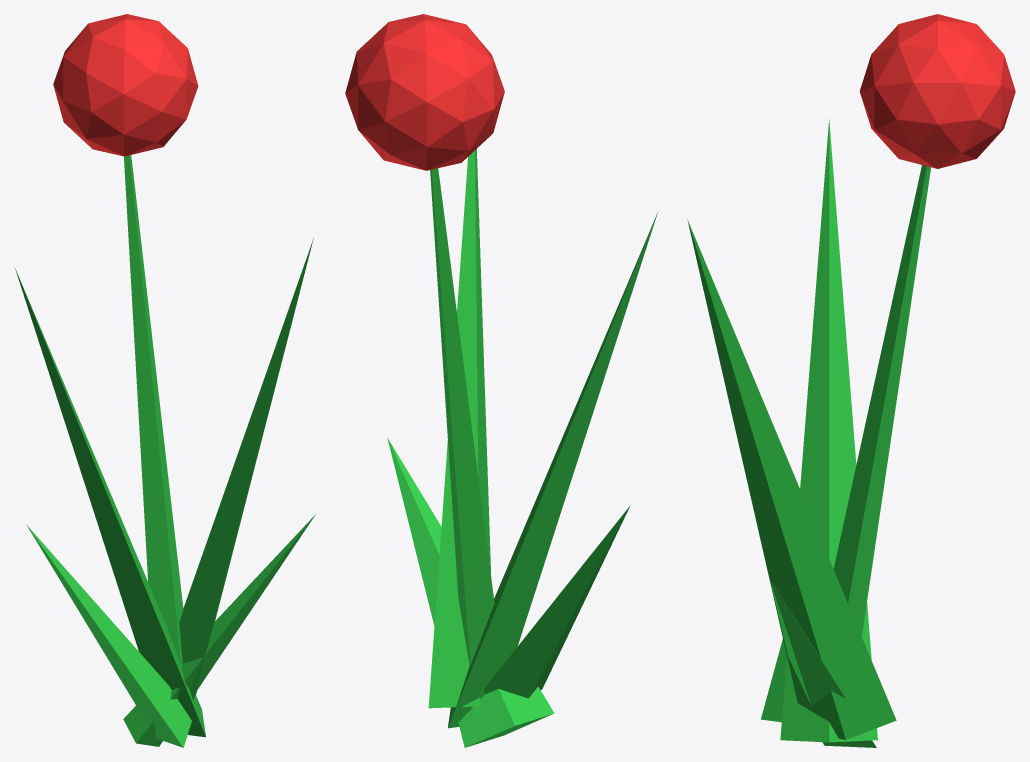
File: FlowerRed1.obj
3 views of the same model, side by side, from view 1: azimuth 30°, elevation 25°; view 2: azimuth 150°, elevation 25°; view 3: azimuth 270°, elevation 25° (orthographic). The views are drawn at different scales.
Visible parts, largest first — view 1: FlowerRed1; view 2: FlowerRed1; view 3: FlowerRed1.
Boxes of the visible parts, x1,y1,x2,y2 form: FlowerRed1: (15,14,315,747); FlowerRed1: (345,14,657,747); FlowerRed1: (687,14,1015,747).
Bounding box in the file's own units: 0.0873 × 0.2078 × 0.0842.
